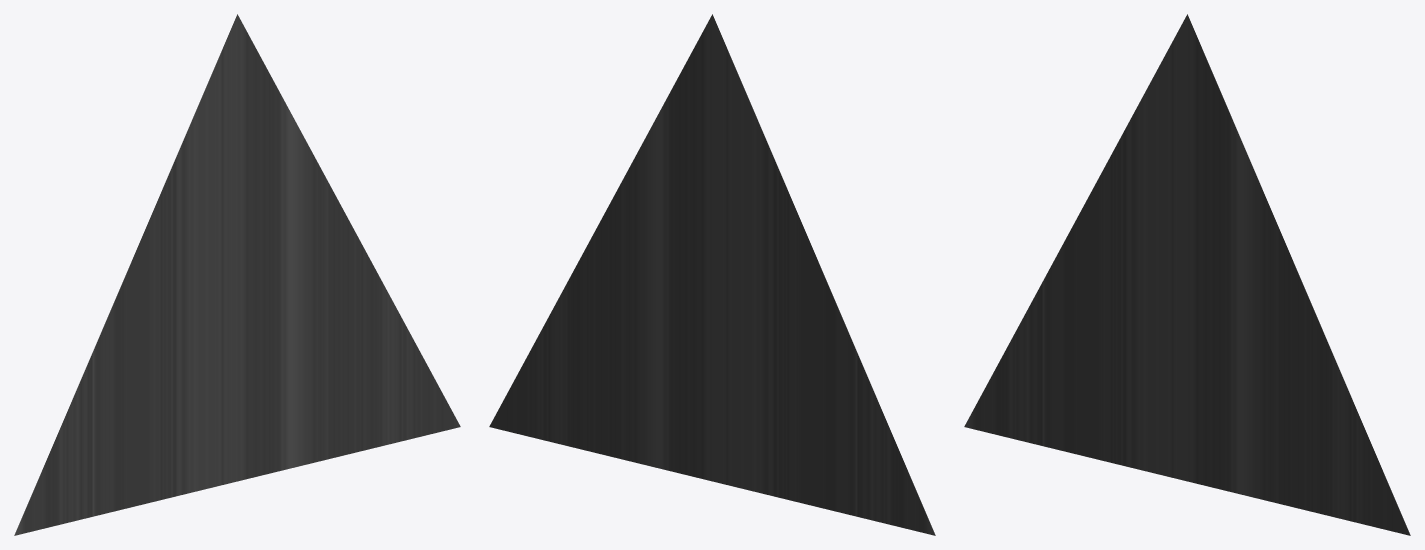
The picture shows the model from 3 angles, left to right: view 1: azimuth 30°, elevation 25°; view 2: azimuth 150°, elevation 25°; view 3: azimuth 330°, elevation 25°; orthographic projection.
Parts seen in each view (by area): view 1: model_0_submesh_0; view 2: model_0_submesh_0; view 3: model_0_submesh_0.
Boxes of the visible parts, x1,y1,x2,y2 form: model_0_submesh_0: (14, 14, 460, 535); model_0_submesh_0: (489, 14, 935, 535); model_0_submesh_0: (964, 14, 1410, 535).
Bounding box in the file's own units: 0.01 × 0.01 × 0.
